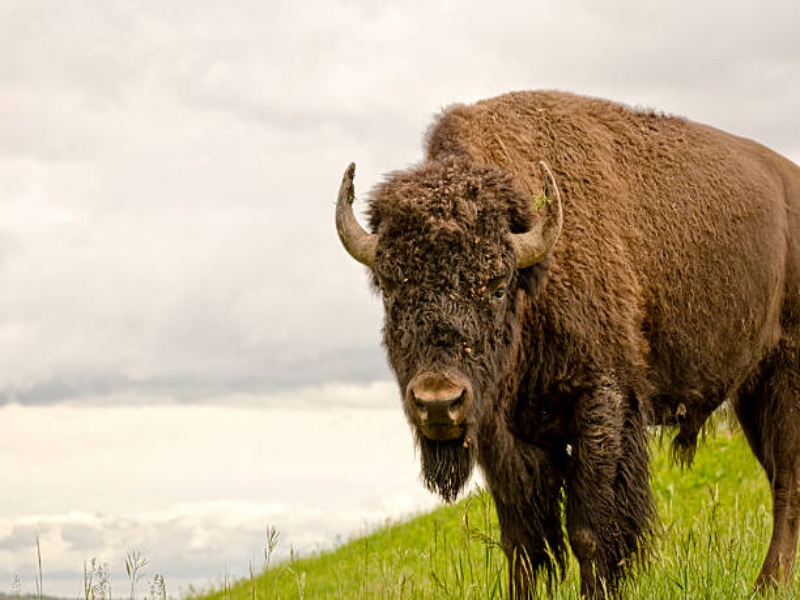buffalo: (324, 84, 789, 570)
